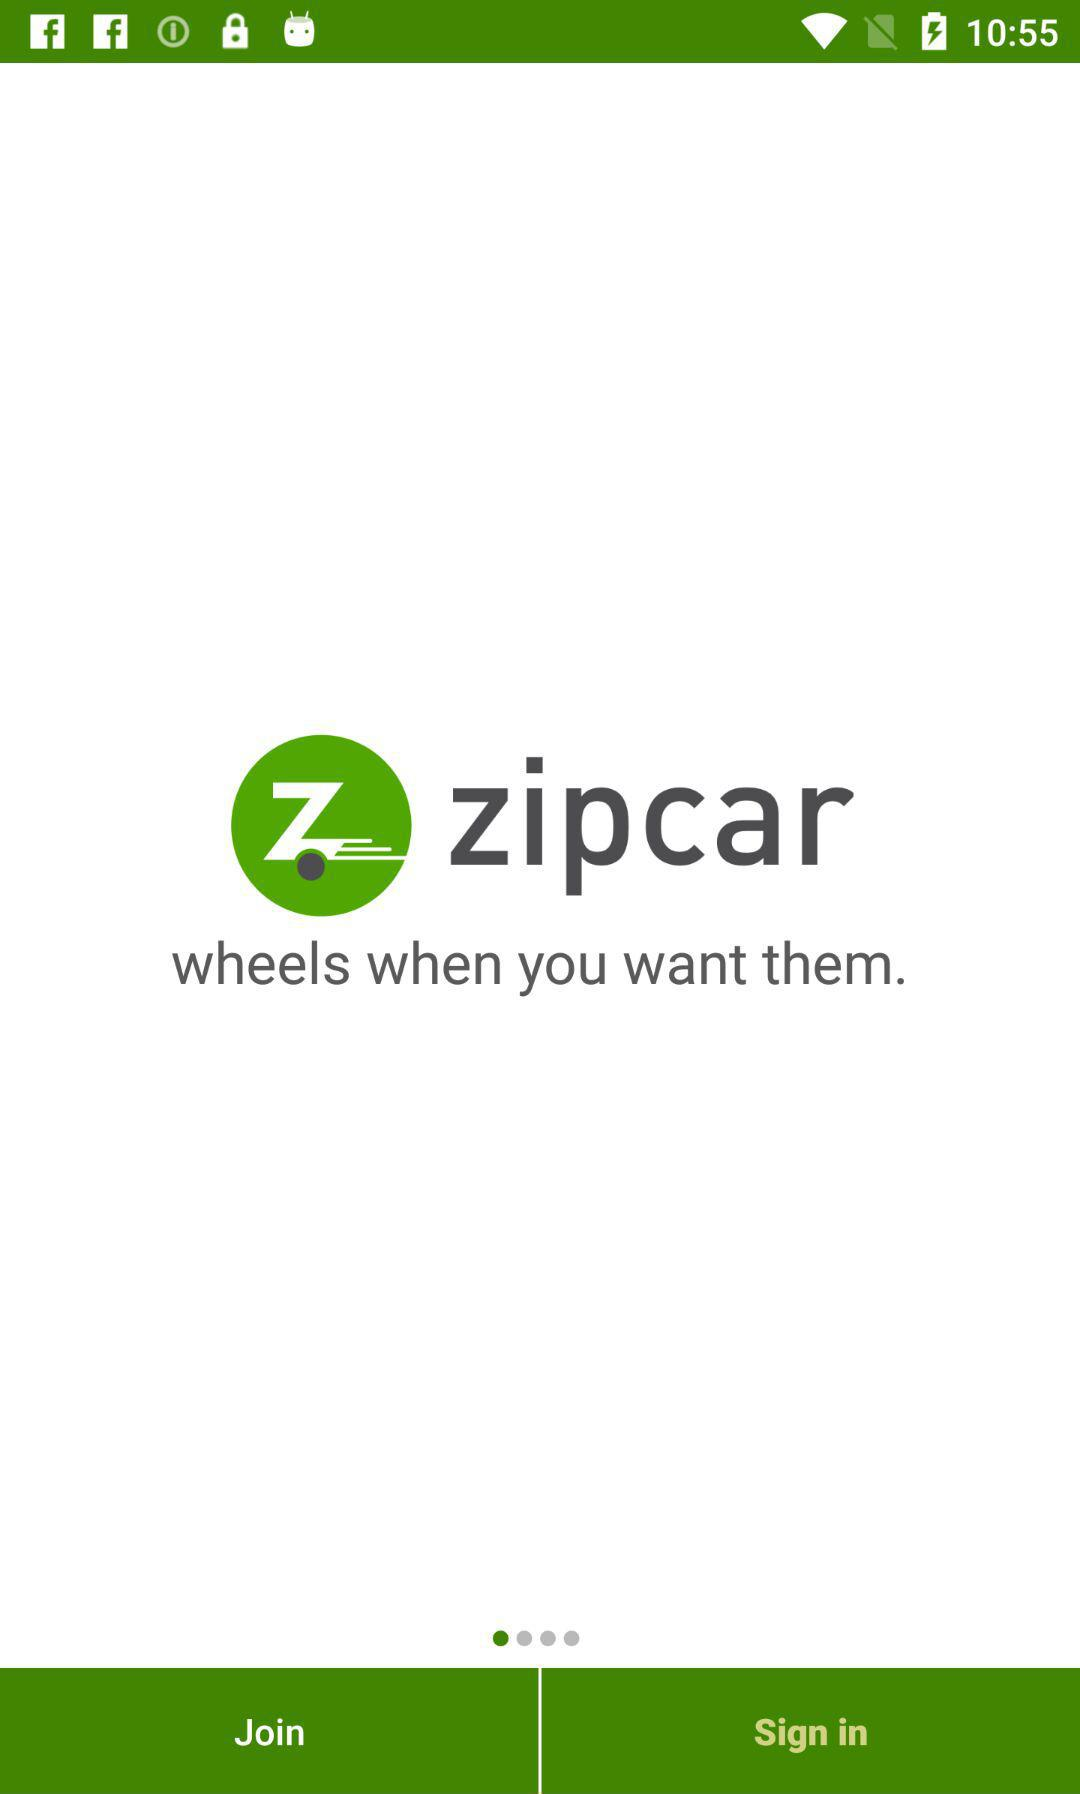Image: (231, 736, 413, 918)
PageIndicator: (492, 1629, 582, 1648)
Text: (450, 756, 855, 900), (170, 939, 906, 998)
TextButton: (1, 1668, 539, 1794), (542, 1668, 1080, 1794)
UpperTaskBar: (1, 1, 1080, 64)
